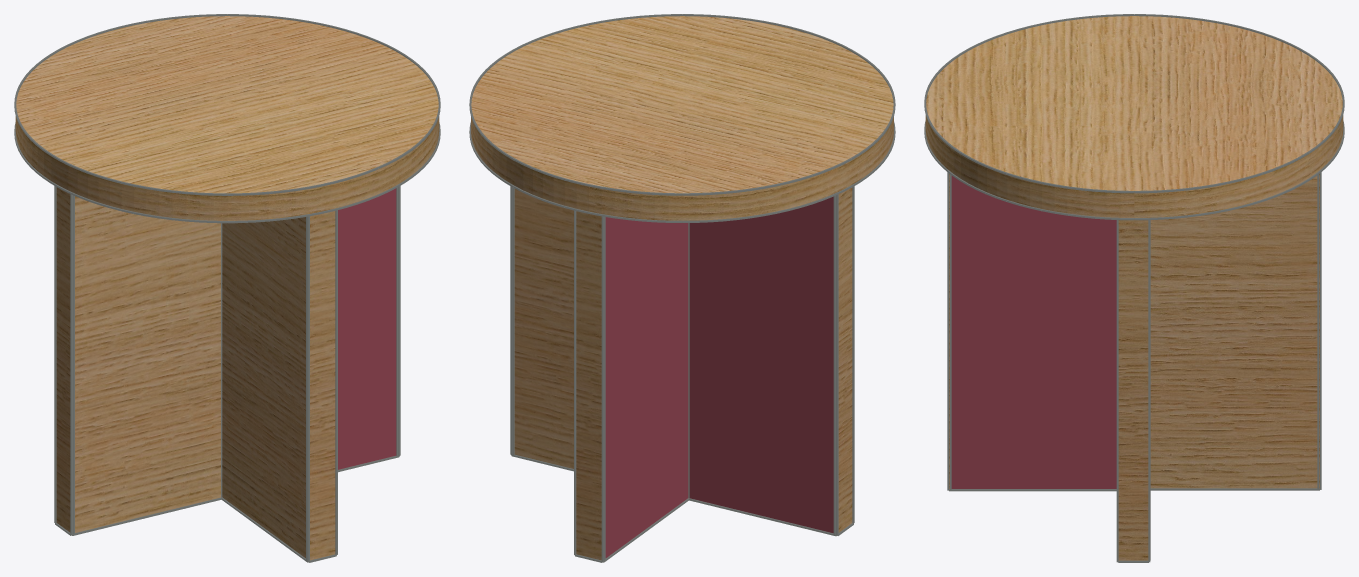
The model's file is modell.glb.
3 renders of one model, left to right at view 1: azimuth 30°, elevation 25°; view 2: azimuth 150°, elevation 25°; view 3: azimuth 270°, elevation 25°, orthographic.
Visible parts, largest first — view 1: 2026 198 Krakk rund; view 2: 2026 198 Krakk rund; view 3: 2026 198 Krakk rund.
Boxes of the visible parts, x1,y1,x2,y2 form: 2026 198 Krakk rund: (14, 14, 440, 562); 2026 198 Krakk rund: (469, 14, 895, 562); 2026 198 Krakk rund: (924, 14, 1344, 562).
Size of the model in its own units: 453 by 454 by 453.
5 materials, 2 textured.
